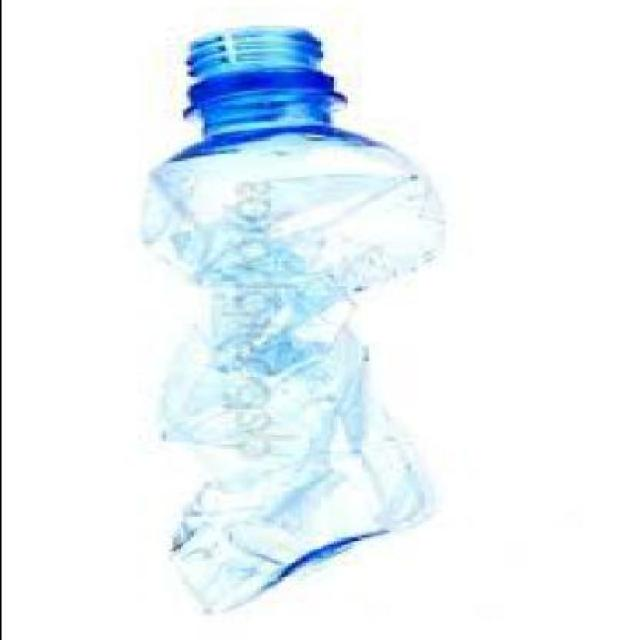PLASTIC: (143, 29, 437, 616)
